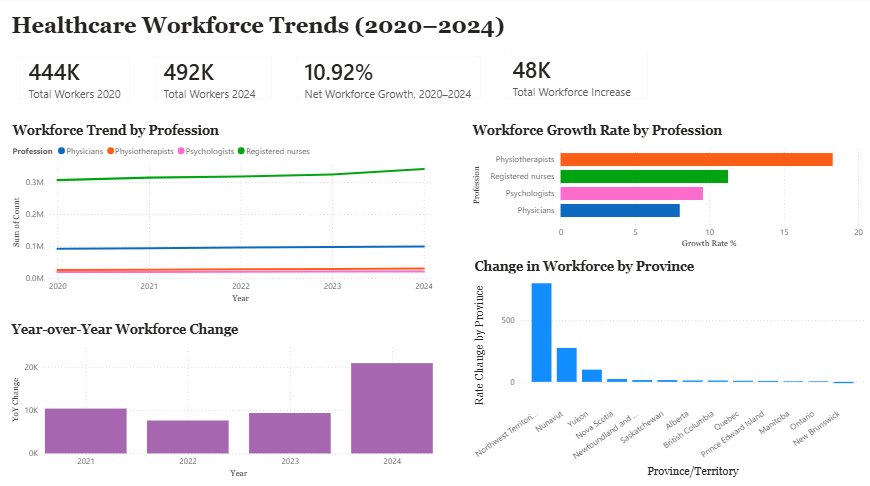

Layout of this report page (visuals, bound fields, positions):
{"tool":"powerbi","page":{"name":" Healthcare Workforce Trends (2020–2024)","canvas":[1280,720],"ordinal":2},"visuals":[{"type":"textbox","box":[13.3,18.3,931.7,50],"z":0},{"type":"cardVisual","fields":{"Data":["Profession.Total Workers 2020"]},"box":[13.3,68.3,195,98.3],"z":1000},{"type":"cardVisual","fields":{"Data":["Profession.Total Workers 2024"]},"box":[210,68.3,206.7,98.3],"z":2000},{"type":"cardVisual","fields":{"Data":["Profession.Total Increase"]},"box":[721.7,63.3,245,103.3],"z":3000},{"type":"lineChart","title":"Workforce Trend by Profession","fields":{"Category":["Profession.Year"],"Y":["Sum(Profession.Count)"],"Series":["Profession.Profession"]},"box":[15,185,625,268.3],"z":4000},{"type":"clusteredBarChart","title":"Workforce Growth Rate by Profession","fields":{"Category":["Profession.Profession"],"Y":["Profession.Growth Rate %"]},"box":[688.3,185,581.7,188.3],"z":5000},{"type":"cardVisual","fields":{"Data":["Profession.Net Growth %"]},"box":[416.7,68.3,305,98.3],"z":6000},{"type":"clusteredColumnChart","title":"Year-over-Year Workforce Change","fields":{"Category":["Profession.Year"],"Y":["Profession.YoY Change"]},"box":[13.3,475,626.7,233.3],"z":7000},{"type":"columnChart","title":"Change in Workforce by Province","fields":{"Category":["Profession.Province/Territory"],"Y":["Profession.Rate Change by Province"]},"box":[690,383.3,580,325],"z":8000}]}

Visuals, with their boxes in screenshot pixels (x1, y1, x2, y2), scaled from the page's 1280x720 canvas onto the 870x486 screenshot:
textbox: 9,12,642,46
cardVisual - Profession.Total Workers 2020: 9,46,142,112
cardVisual - Profession.Total Workers 2024: 143,46,283,112
cardVisual - Profession.Total Increase: 491,43,657,112
"Workforce Trend by Profession" lineChart: 10,125,435,306
"Workforce Growth Rate by Profession" clusteredBarChart: 468,125,863,252
cardVisual - Profession.Net Growth %: 283,46,491,112
"Year-over-Year Workforce Change" clusteredColumnChart: 9,321,435,478
"Change in Workforce by Province" columnChart: 469,259,863,478
